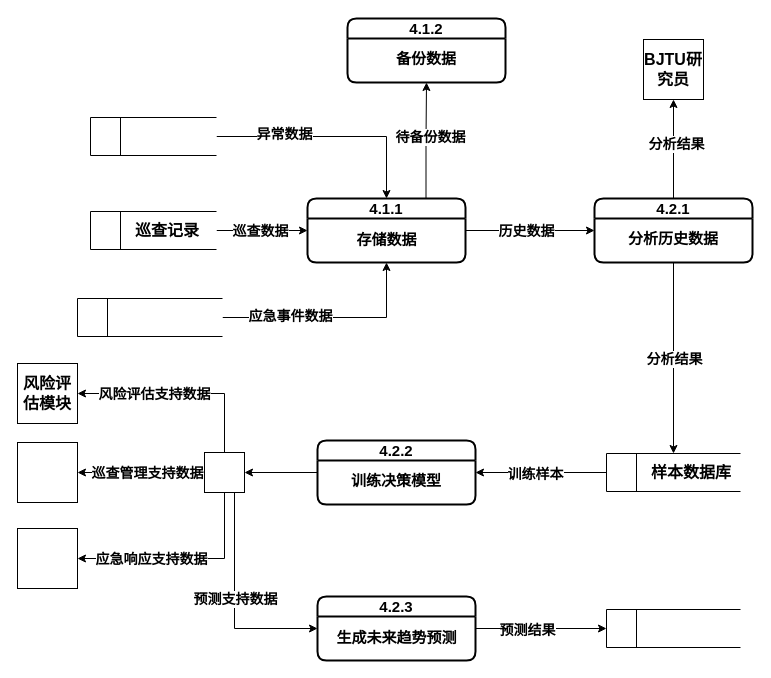
Some shapes in this 771 by 678 pixel diagram are drawn without their labels. The centre of each missing label's shape, as x and y in pixels:
巡查管理模块: point 47,472
应急事件记录: point 149,317
应急响应模块: point 47,558
异常记录: point 153,136
预测信息库: point 673,628
